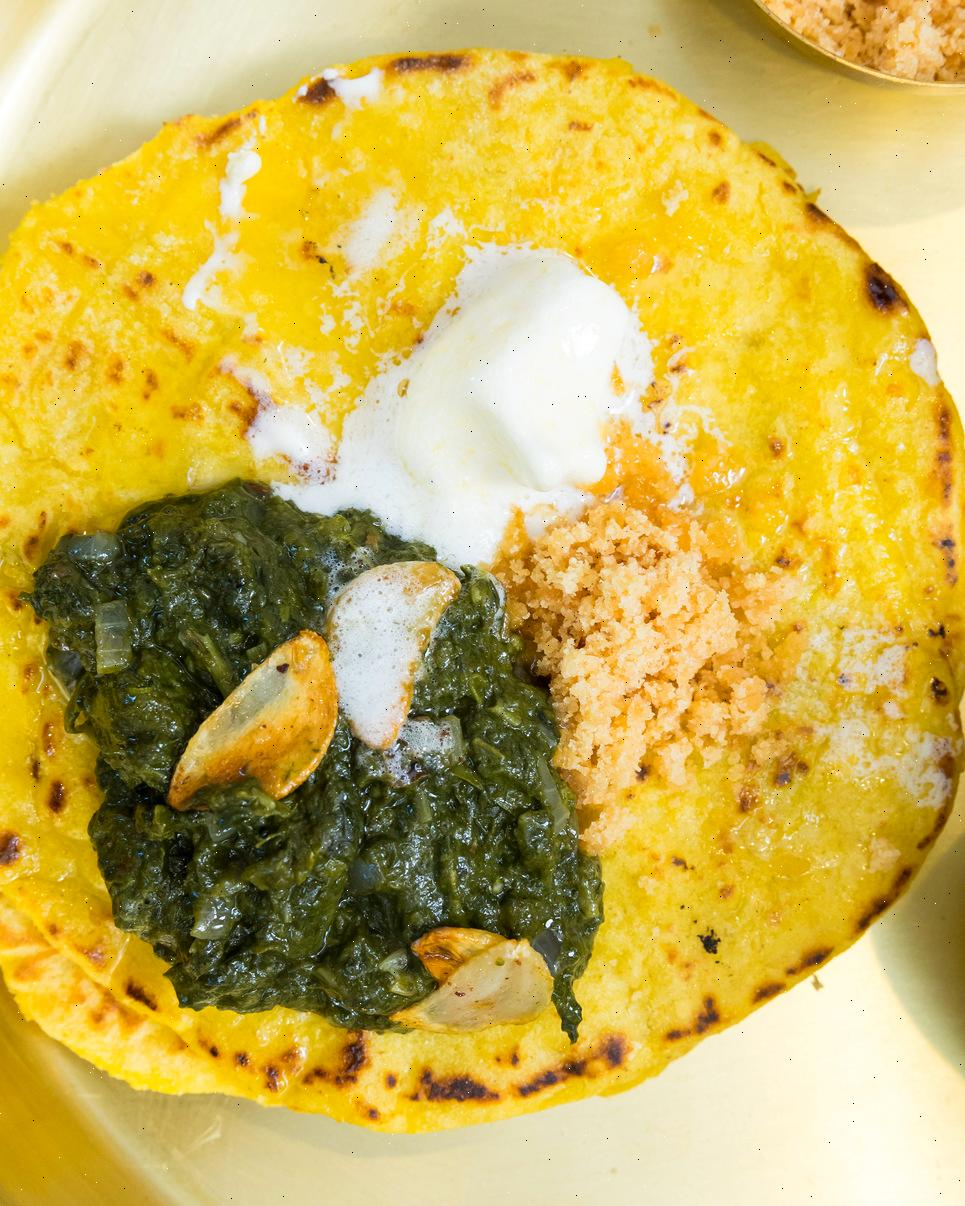saag: (82, 558, 554, 1005)
